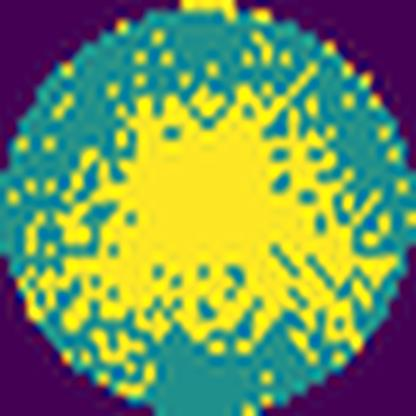Center: (64, 85, 358, 342)
